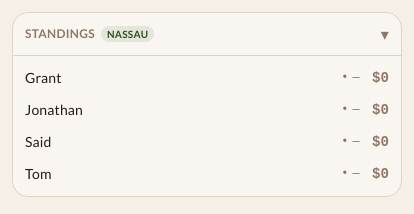
Test: LiveStandings — collapsed state › toggling the header hides and shows the rows
This screenshot has width=414, height=214.
Expected: the element with test id "live-standings-row-p1" is shown, [25,64,389,92]
Click the button with test id "live-standings-toggle": coordinates (60, 33) [13,13,401,55]
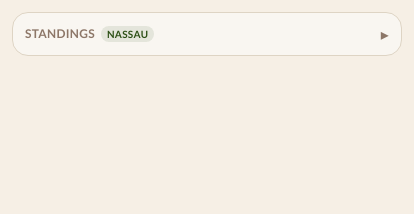
Result: the element with test id "live-standings-row-p1" is gone
Result: the button with test id "live-standings-toggle" is collapsed
Click the button with test id "live-standings-toggle": coordinates (60, 33) [13,13,401,55]
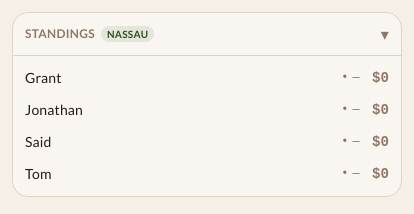
Result: the element with test id "live-standings-row-p1" is shown at [25,64,389,92]
Result: the button with test id "live-standings-toggle" is expanded at [13,13,401,55]
